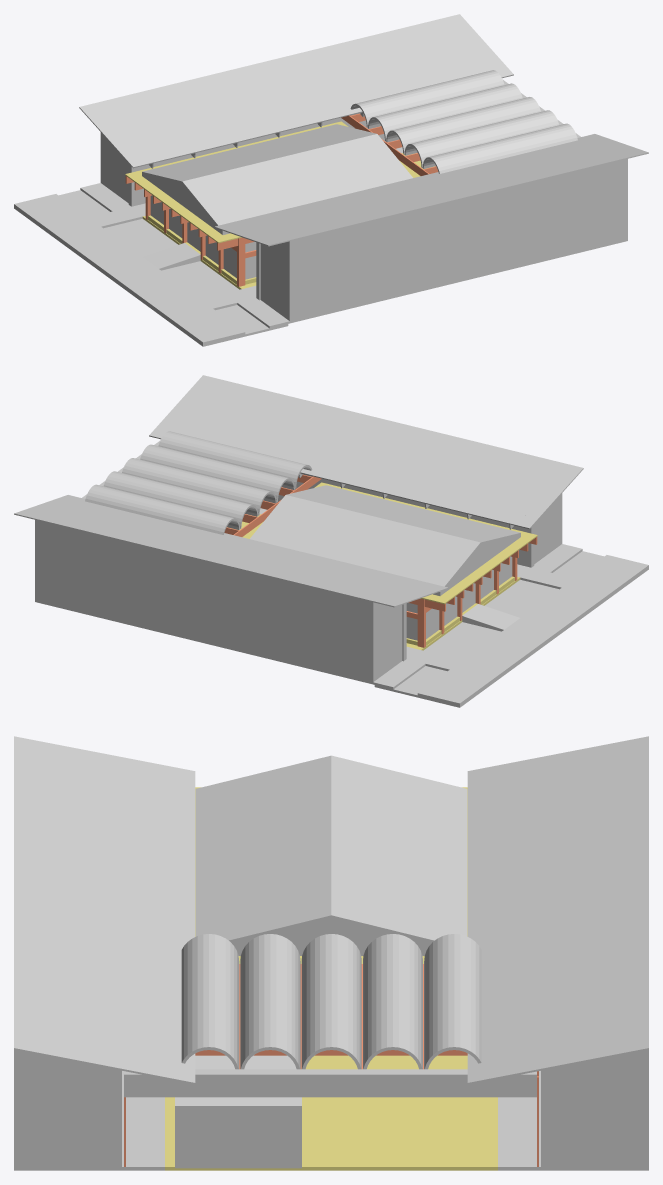
3 views of the same model, one above another, from view 1: azimuth 30°, elevation 25°; view 2: azimuth 150°, elevation 25°; view 3: azimuth 270°, elevation 25° (orthographic). The views are drawn at different scales.
Parts seen in each view (by area): view 1: floor.007, existing roof side, Plane.022, exist-road, Plane.042, existing roof side.001, Plane.034, exist-demo-floor, existing truss roof3, Plane.039, exist-con-column01, existing column (+2 smaller); view 2: floor.007, existing roof side, Plane.022, exist-road, Plane.042, existing roof side.001, Plane.034, exist-demo-floor, existing truss roof3, Plane.039, exist-con-column01, existing column (+3 smaller); view 3: existing roof side, Plane.022, Plane.042, floor.007, floor 1st structure.001, existing roof side.001, Plane.038, Plane.037, existing column, existing truss roof3.
Part boxes in pixels (x1=…): floor.007: x1=80, y1=117, x2=627, y2=328; existing roof side: x1=79, y1=14, x2=648, y2=248; Plane.022: x1=142, y1=124, x2=412, y2=234; exist-road: x1=14, y1=190, x2=288, y2=346; Plane.042: x1=350, y1=70, x2=577, y2=173; existing roof side.001: x1=124, y1=64, x2=603, y2=230; Plane.034: x1=150, y1=195, x2=256, y2=279; exist-demo-floor: x1=125, y1=138, x2=274, y2=243; existing truss roof3: x1=341, y1=113, x2=438, y2=175; Plane.039: x1=143, y1=243, x2=200, y2=270; exist-con-column01: x1=145, y1=196, x2=245, y2=286; existing column: x1=128, y1=119, x2=386, y2=300; floor.007: x1=35, y1=478, x2=582, y2=689; existing roof side: x1=14, y1=375, x2=583, y2=609; Plane.022: x1=250, y1=485, x2=520, y2=595; exist-road: x1=374, y1=551, x2=648, y2=707; Plane.042: x1=85, y1=431, x2=312, y2=534; existing roof side.001: x1=59, y1=425, x2=538, y2=591; Plane.034: x1=406, y1=556, x2=512, y2=640; exist-demo-floor: x1=421, y1=530, x2=537, y2=604; existing truss roof3: x1=224, y1=474, x2=321, y2=536; Plane.039: x1=462, y1=604, x2=519, y2=631; exist-con-column01: x1=417, y1=557, x2=517, y2=647; existing column: x1=276, y1=480, x2=534, y2=661; existing roof side: x1=14, y1=736, x2=648, y2=1078; Plane.022: x1=195, y1=755, x2=467, y2=955; Plane.042: x1=181, y1=934, x2=481, y2=1069; floor.007: x1=14, y1=1050, x2=648, y2=1170; floor 1st structure.001: x1=165, y1=1055, x2=497, y2=1170; existing roof side.001: x1=165, y1=765, x2=497, y2=1084; Plane.038: x1=124, y1=1069, x2=536, y2=1097; Plane.037: x1=175, y1=1055, x2=301, y2=1168; existing column: x1=111, y1=1069, x2=551, y2=1167; existing truss roof3: x1=124, y1=964, x2=538, y2=1166.
Bounding box in the file's own units: 42.3 × 7.76 × 31.07.
